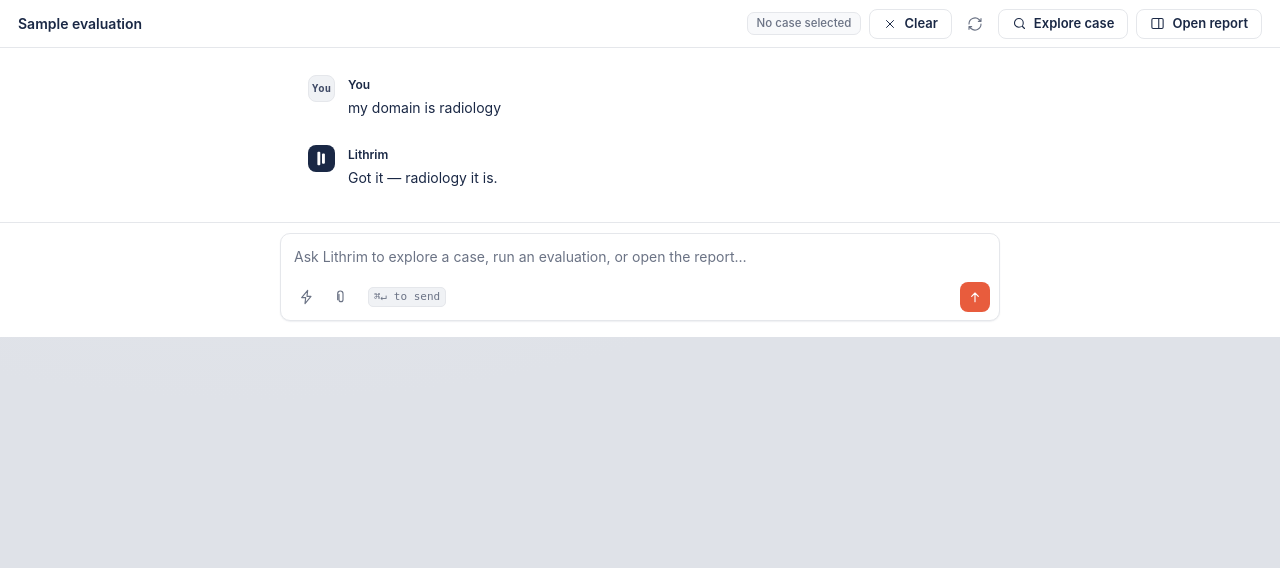
CenterPane — PERSIST-CONV: durable conversation persistence › A9: 'Clear conversation' clears the store (deleteConversation) and empties the thread
The image size is (1280, 568).
Expected: the text "my domain is radiology" is shown, left=348, top=99, right=501, bottom=116
// ...arm the in-DOM confirm (no window.confirm — it freezes the renderer), then confirm
Click the button titled "Clear conversation" at (911,24), box left=869, top=8, right=952, bottom=38
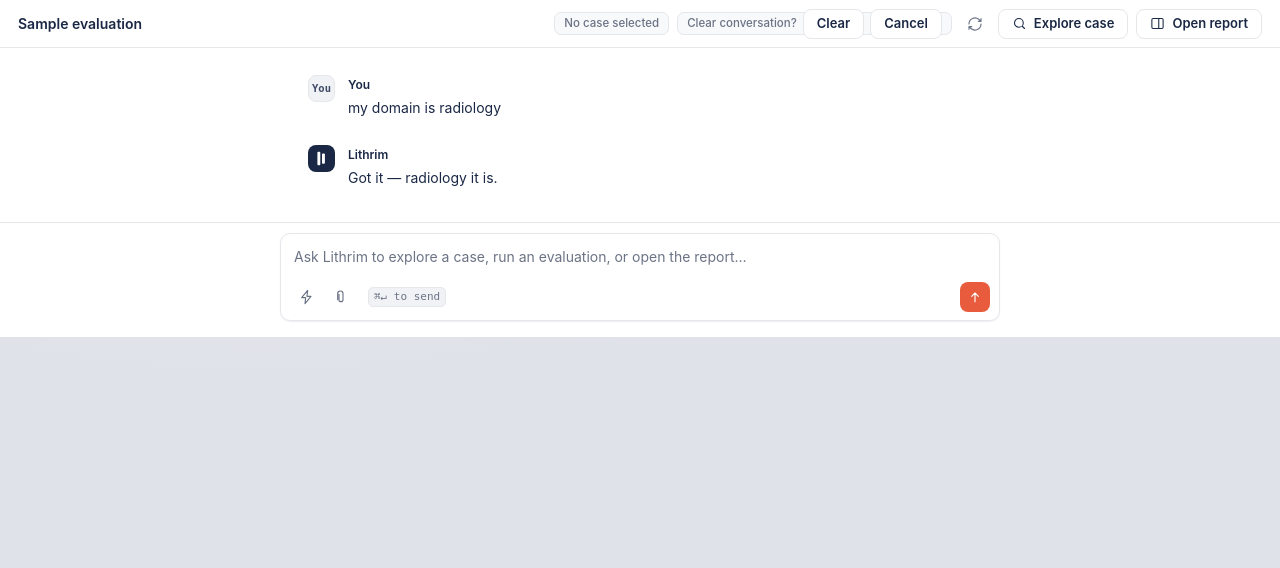
Click the button with test id "chat-clear-confirm" at (834,24), box left=803, top=8, right=864, bottom=38
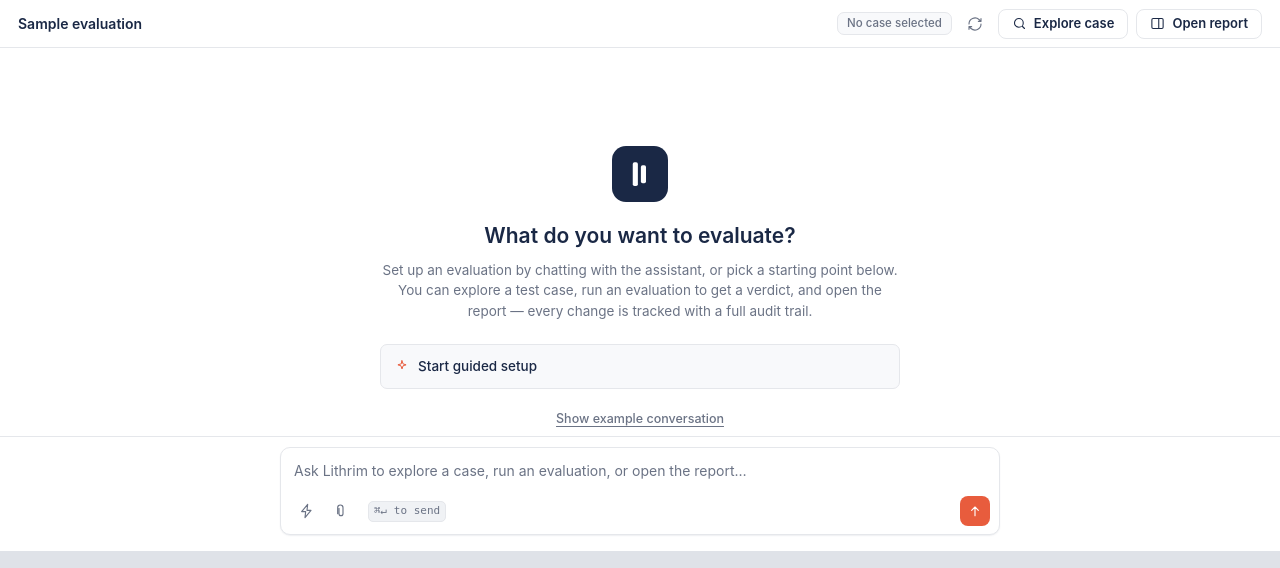
Now the text "my domain is radiology" is gone
Now the heading "What do you want to evaluate?" is shown, box left=484, top=223, right=796, bottom=248
